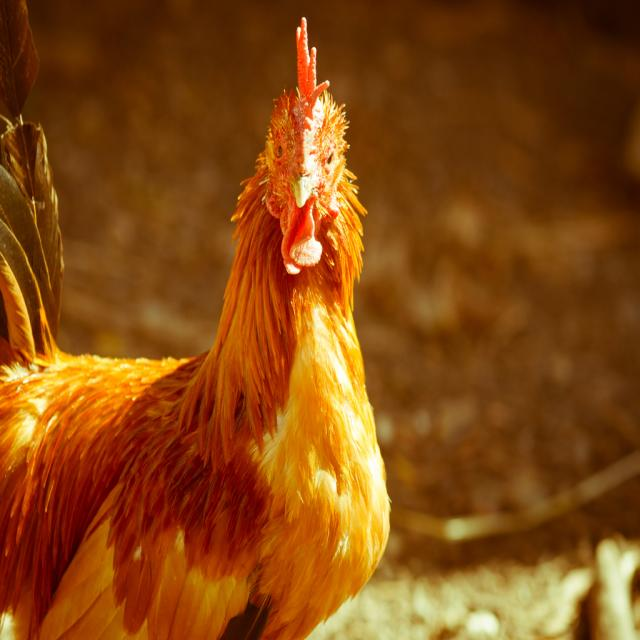Chicken: (0, 0, 397, 639)
